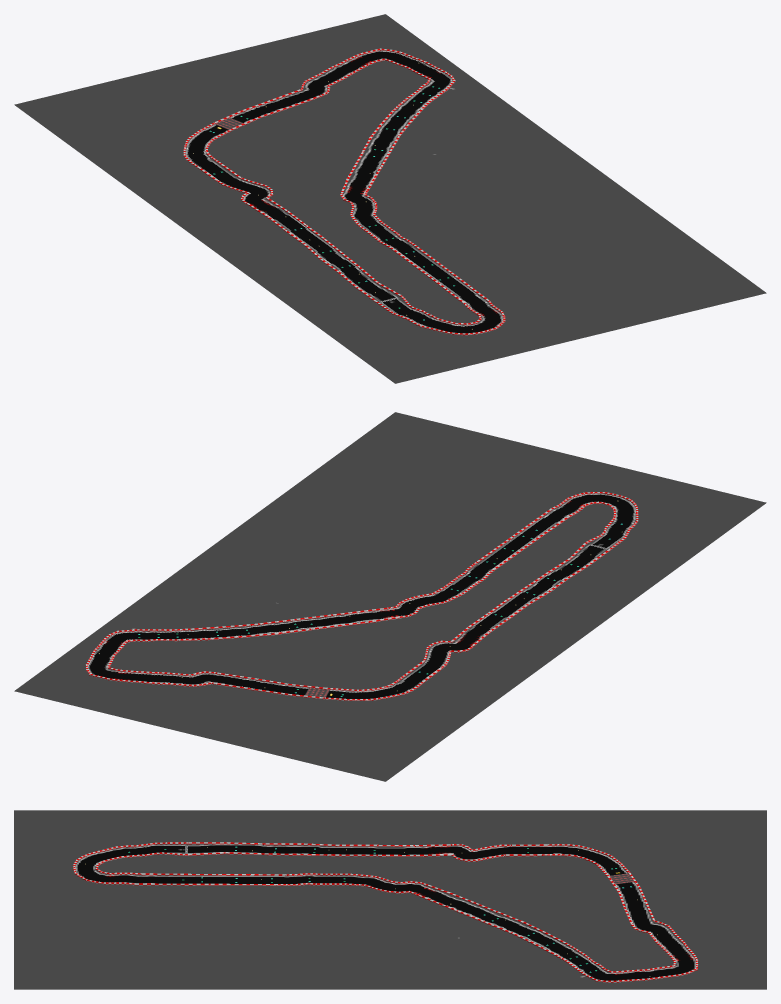
File: track1.fbx
The picture shows the model from 3 angles, top to bottom: view 1: azimuth 30°, elevation 25°; view 2: azimuth 150°, elevation 25°; view 3: azimuth 270°, elevation 25°; orthographic projection.
Visible parts, largest first — view 1: ground; view 2: ground; view 3: ground.
Boxes of the visible parts, bbox=[...] form: ground: bbox=[14, 14, 766, 383]; ground: bbox=[14, 412, 766, 781]; ground: bbox=[14, 810, 766, 989].
Size of what is drawn, in the model's own units: 10000 by 72.34 by 17770.
Materials: 7 (7 with a texture image).
